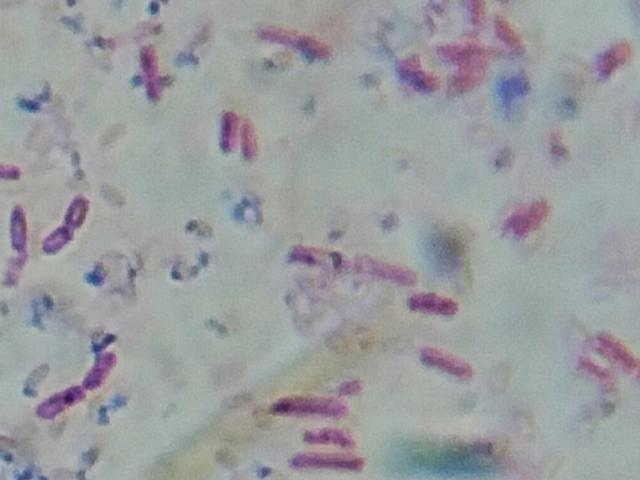E. coli: (259, 20, 328, 60), (276, 390, 356, 422), (422, 342, 479, 386), (429, 31, 503, 63), (502, 194, 549, 238), (34, 384, 88, 419), (134, 44, 163, 98), (290, 450, 367, 470), (598, 328, 639, 365), (410, 286, 460, 315), (85, 347, 120, 388), (393, 56, 430, 94), (303, 421, 357, 446), (7, 201, 30, 251), (59, 196, 89, 229), (44, 225, 77, 252), (219, 107, 237, 154), (238, 116, 256, 163)
